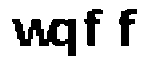f: (82, 5, 106, 49), (116, 6, 140, 48)
q: (49, 15, 78, 60)
w: (9, 16, 51, 50)
